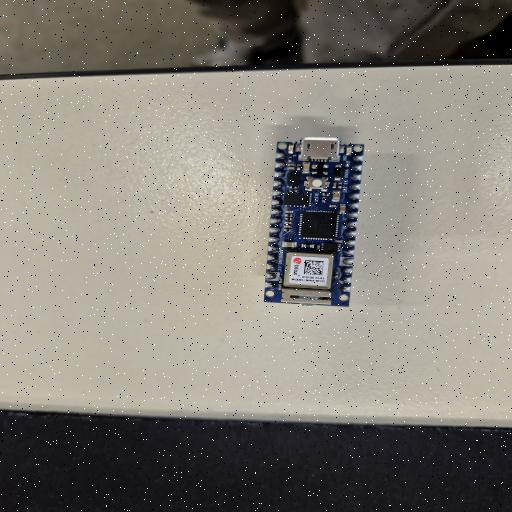arduino-nano-iot-33: (264, 140, 360, 309)
